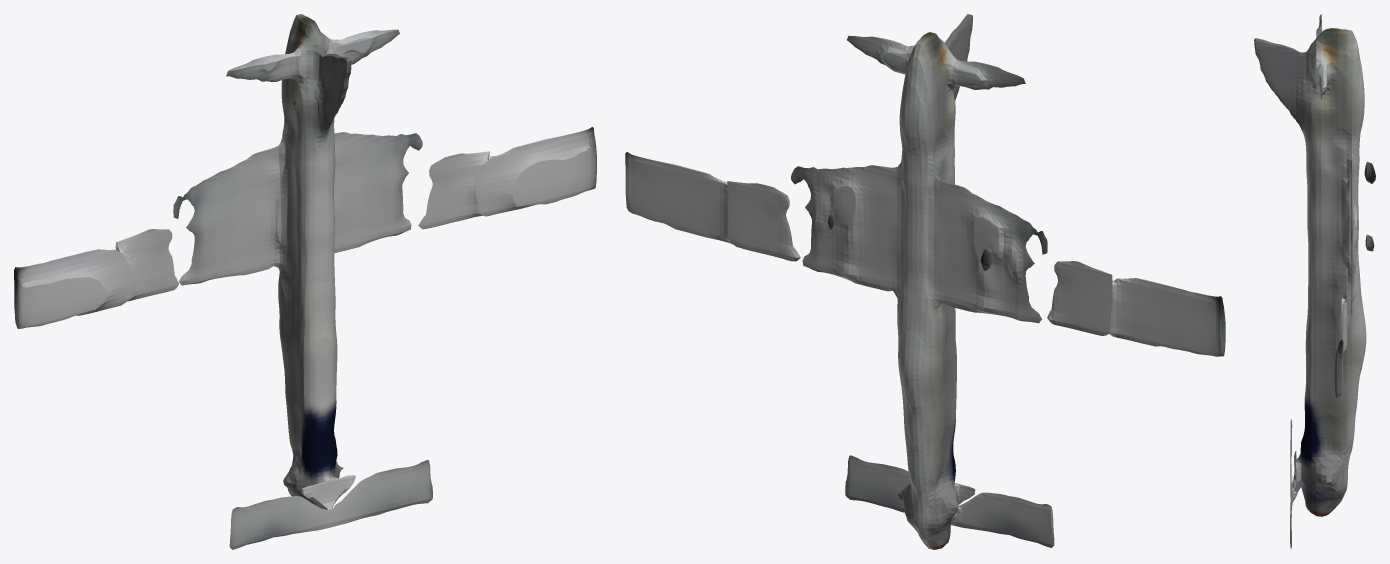
Rendered from airplane_1750033349.obj.
The picture shows the model from 3 angles, left to right: view 1: azimuth 30°, elevation 25°; view 2: azimuth 150°, elevation 25°; view 3: azimuth 270°, elevation 25°; orthographic projection. The views are drawn at different scales.
Size of the model in its own units: 1.98 by 1.64 by 0.373.
